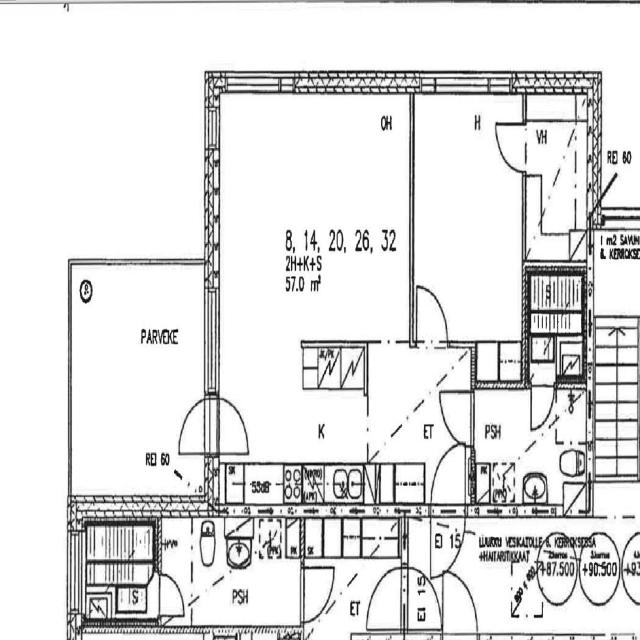door: (411, 276, 452, 354), (364, 561, 406, 635), (297, 557, 339, 630), (441, 563, 481, 639), (436, 384, 479, 454), (174, 393, 216, 461), (404, 560, 443, 632), (490, 113, 531, 180), (215, 388, 252, 462), (429, 444, 469, 510), (429, 508, 466, 574), (526, 377, 558, 437), (618, 526, 640, 608), (155, 569, 188, 620)
window: (198, 269, 227, 402), (424, 67, 499, 102), (220, 68, 290, 98), (475, 619, 524, 640)
zone: (214, 87, 414, 506), (67, 262, 214, 512), (410, 88, 526, 354), (158, 508, 304, 640), (470, 385, 587, 514), (524, 87, 596, 265), (77, 516, 158, 628), (526, 262, 586, 368)
